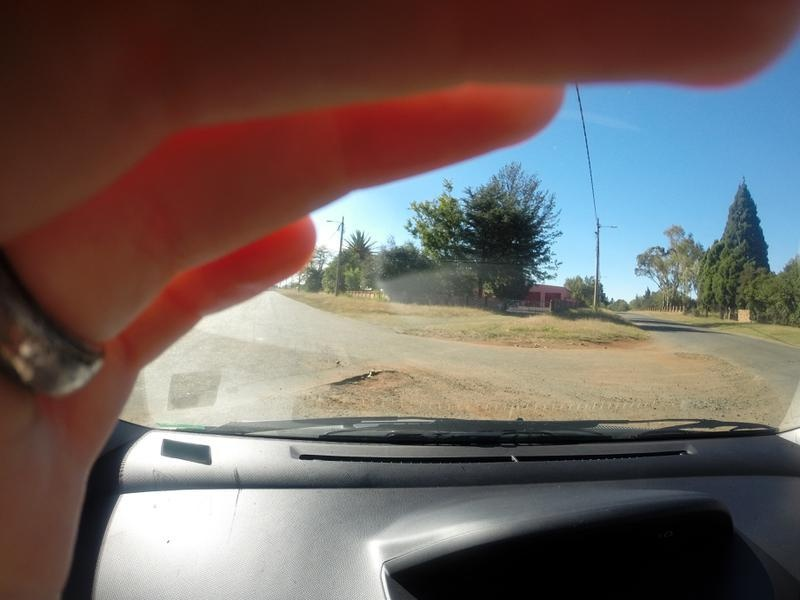pothole: (320, 362, 429, 406)
